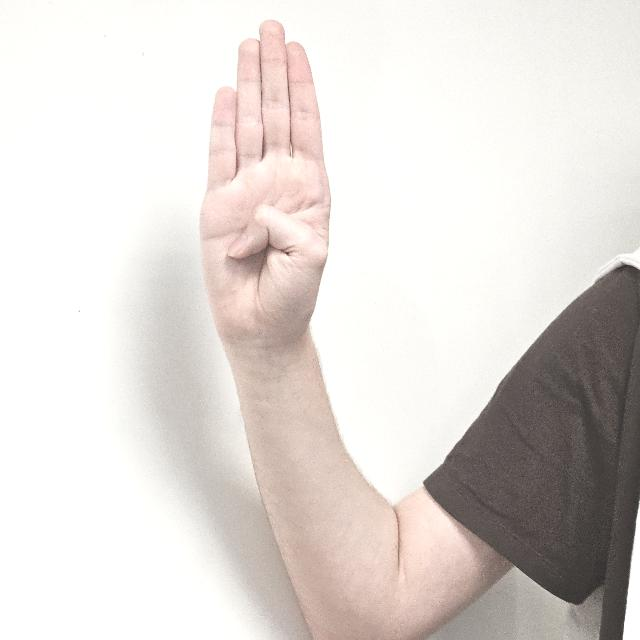Baixo: (190, 8, 344, 414)
